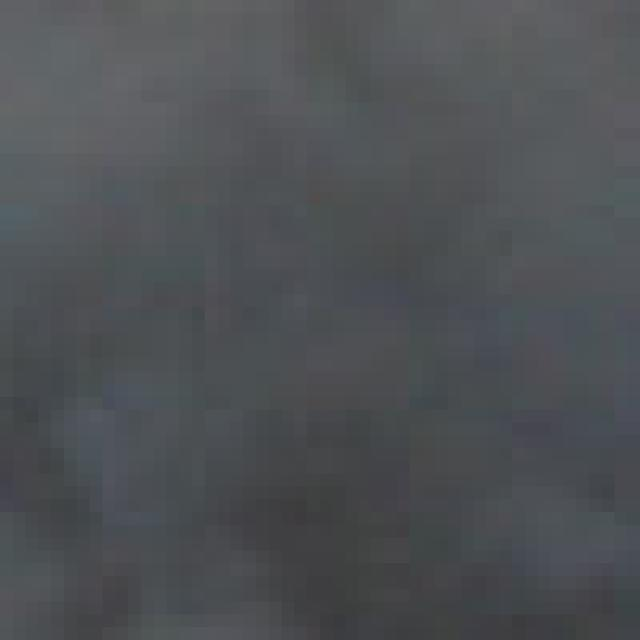fire: (13, 51, 640, 640)
